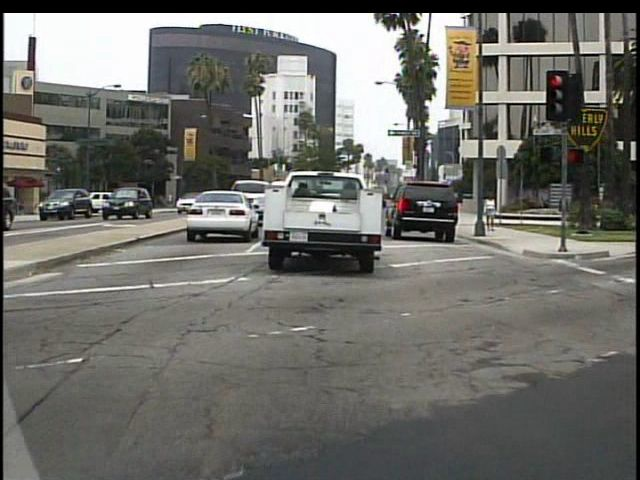person: (482, 188, 500, 237)
